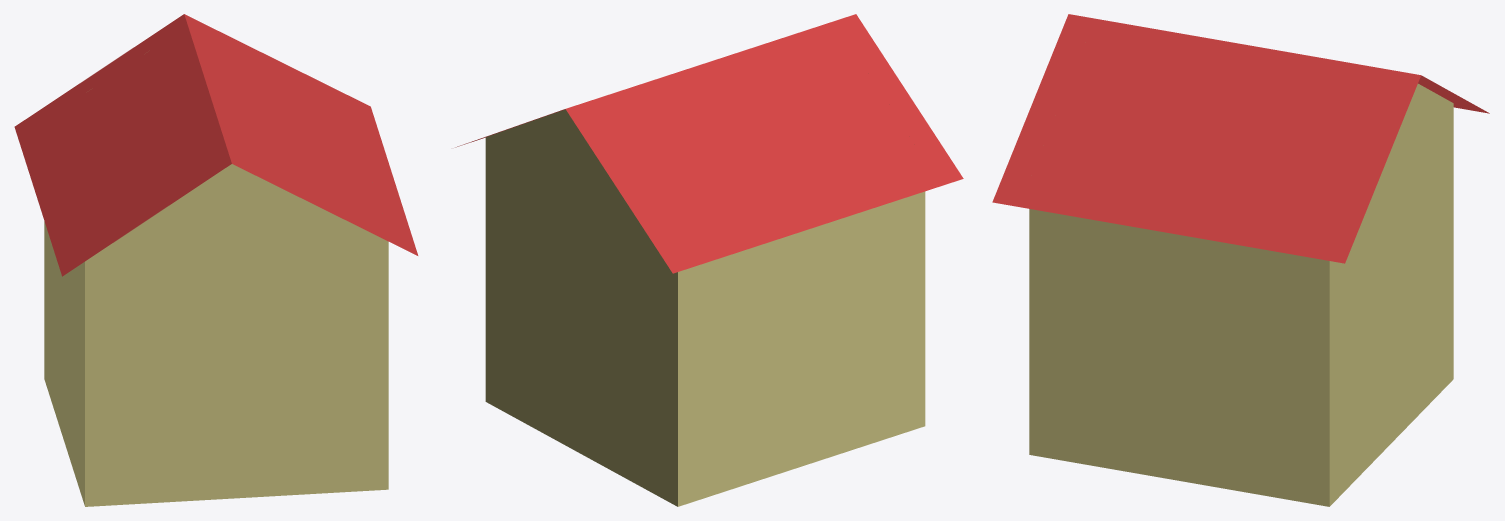
3 views of the same model, side by side, from view 1: azimuth 30°, elevation 25°; view 2: azimuth 150°, elevation 25°; view 3: azimuth 270°, elevation 25° (orthographic). The views are drawn at different scales.
Parts seen in each view (by area): view 1: group_5, group_3, group_4; view 2: group_5, group_3, group_4; view 3: group_5, group_3, group_4.
Boxes of the visible parts, x1,y1,x2,y2 form: group_5: [44, 164, 388, 506]; group_3: [44, 14, 388, 247]; group_4: [14, 14, 418, 276]; group_5: [485, 109, 925, 506]; group_3: [455, 14, 924, 240]; group_4: [521, 14, 963, 273]; group_5: [1029, 83, 1453, 506]; group_3: [1029, 18, 1489, 263]; group_4: [992, 14, 1420, 263].
Bounding box in the file's own units: 13.17 × 13.14 × 10.73.
